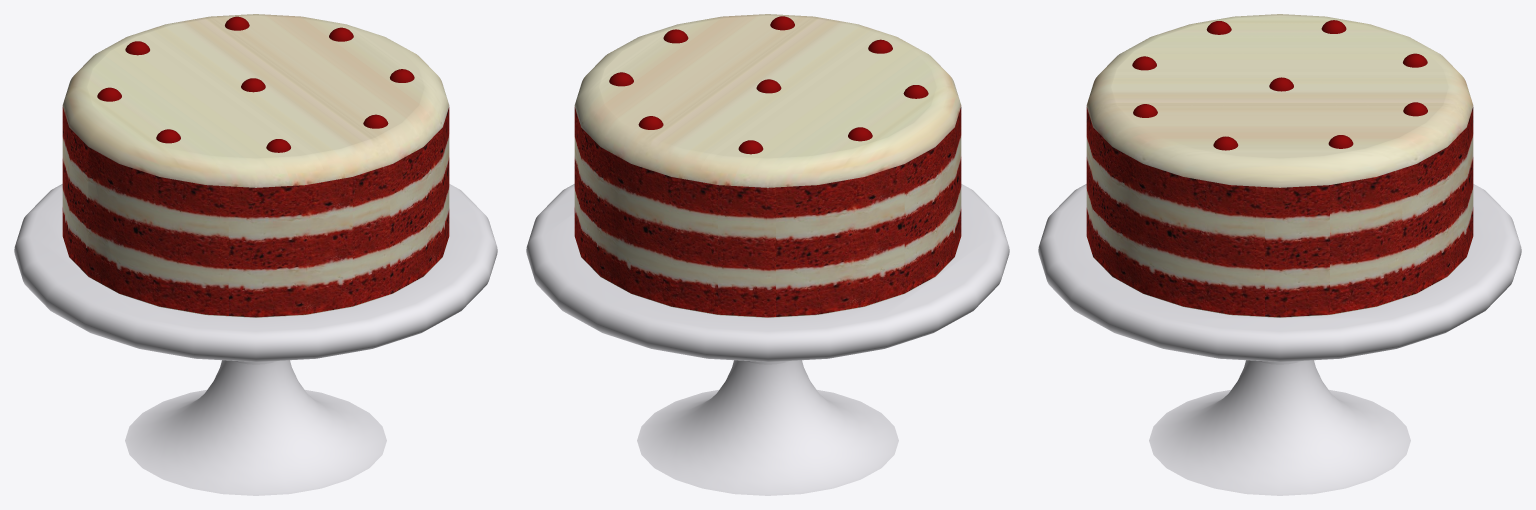
File: cake.fbx
3 renders of one model, left to right at view 1: azimuth 30°, elevation 25°; view 2: azimuth 150°, elevation 25°; view 3: azimuth 270°, elevation 25°, orthographic.
Visible parts, largest first — view 1: cake1; view 2: cake1; view 3: cake1.
Part boxes in pixels (x1,y1,x2,y2): cake1: [14, 14, 497, 495]; cake1: [526, 14, 1009, 495]; cake1: [1038, 14, 1521, 495].
Bounding box in the file's own units: 29.2 × 24.04 × 29.2.
